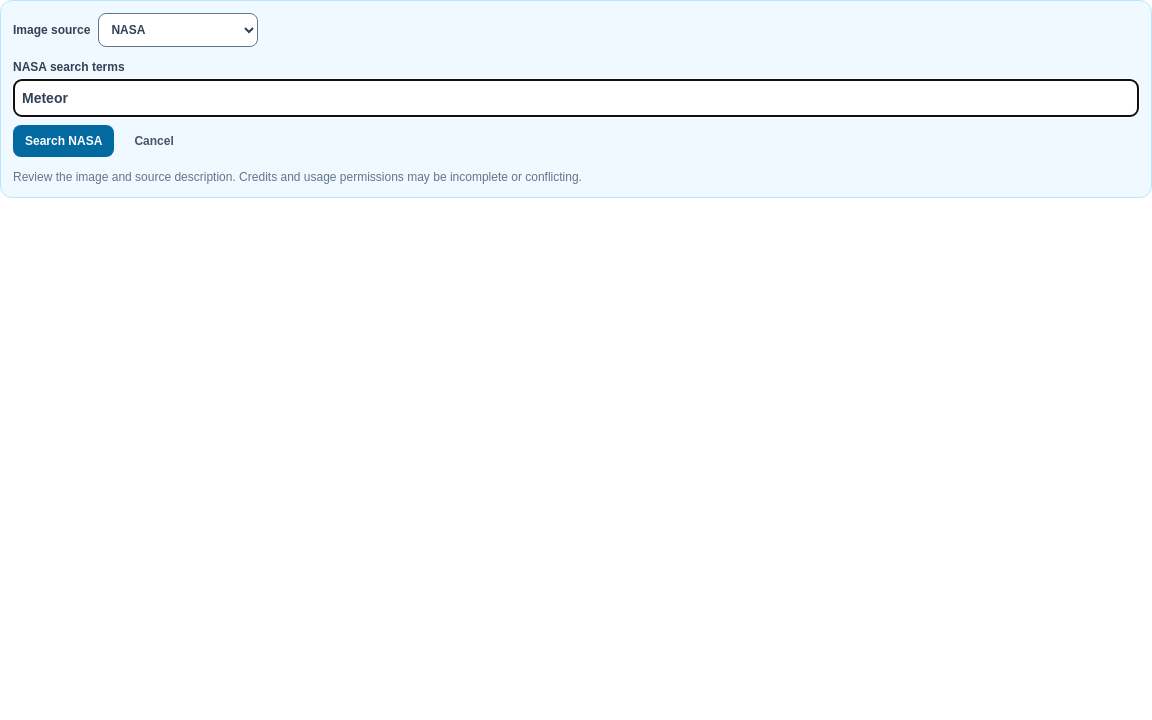
Test: unavailable Commons results › shows no toggle when every result is usable
The width and height of the screenshot is (1152, 720).
Select "Wikimedia Commons" in the dropdown labelled "Image source" at point(178, 30), box [98,13,258,47]
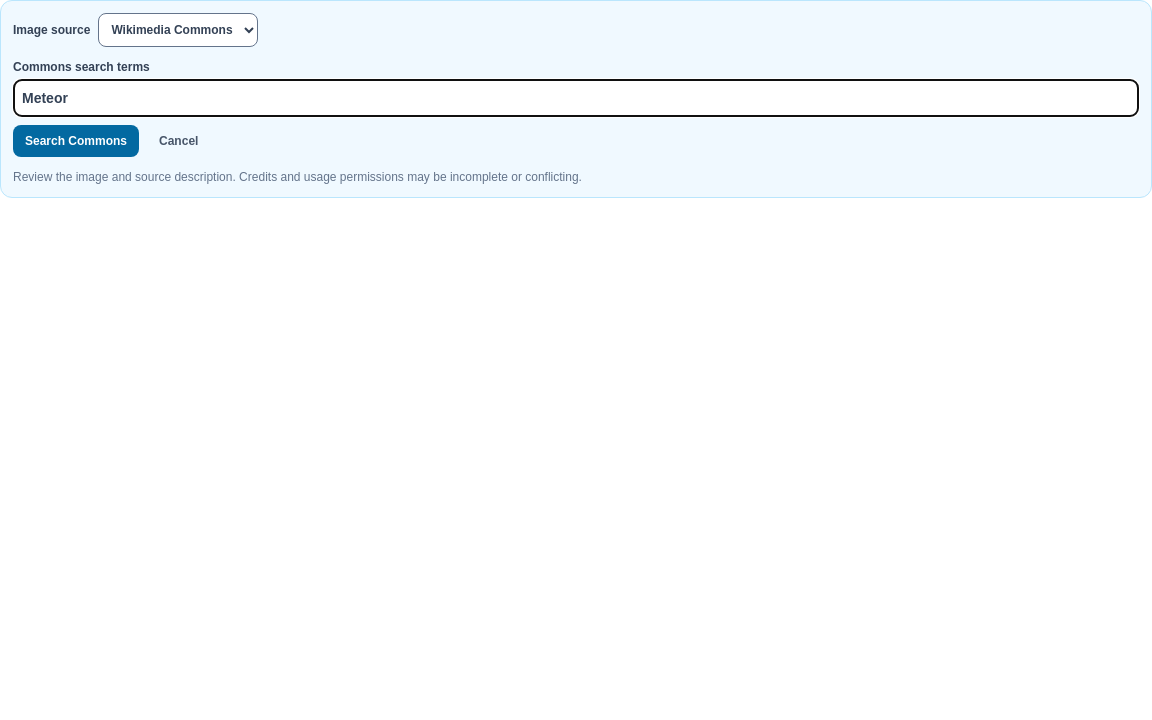
Click the button "Search Commons" at point(76, 141), box [13,125,139,157]
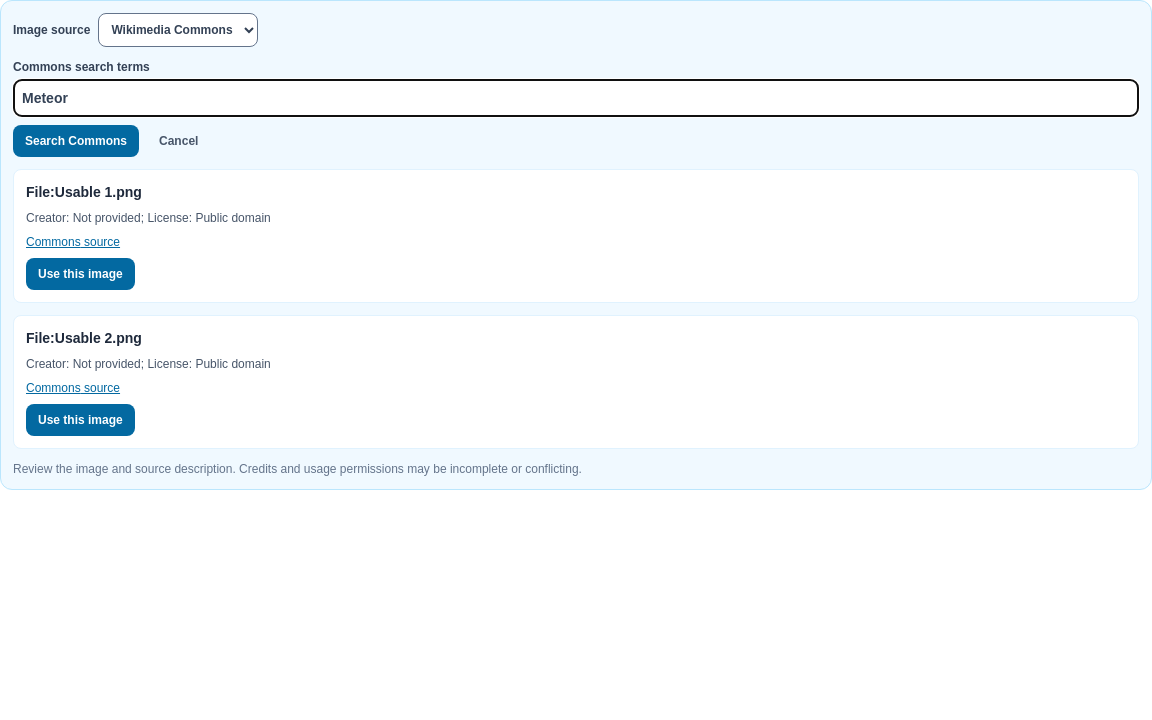
Now the text "File:Usable 2.png" is shown, box [26,330,142,346]
